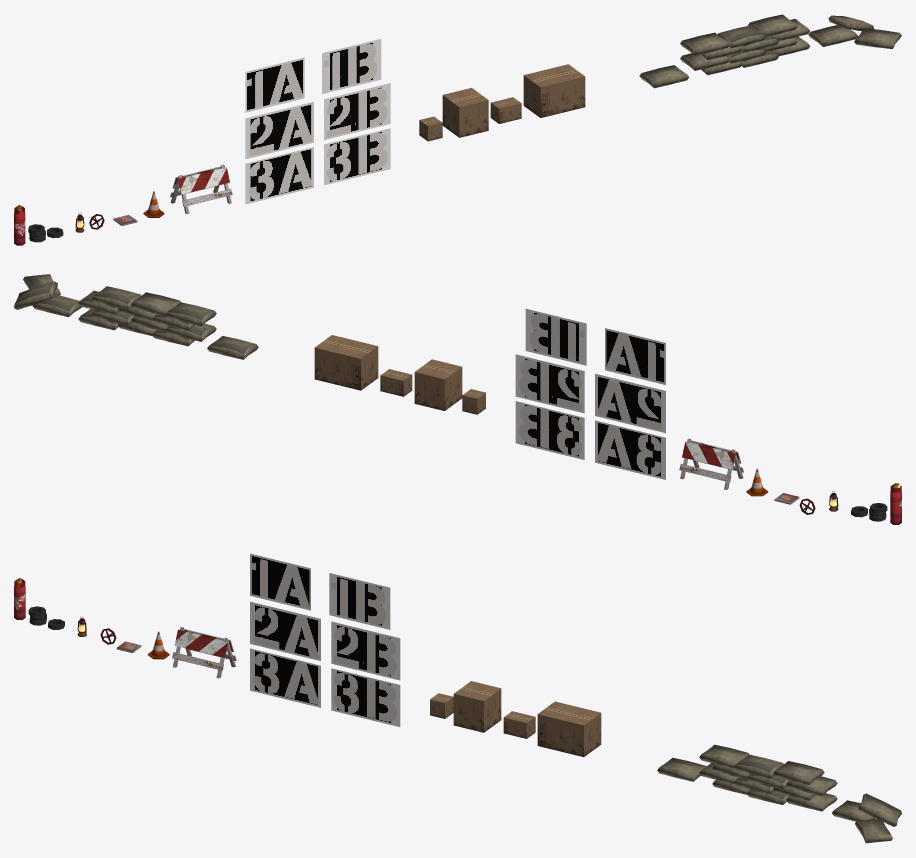
The model's file is MiscProps.fbx.
3 views of the same model, one above another, from view 1: azimuth 30°, elevation 25°; view 2: azimuth 150°, elevation 25°; view 3: azimuth 330°, elevation 25° (orthographic). The views are drawn at different scales.
Visible parts, largest first — view 1: Prop_Sandbag_Wall, Prop_LocationMarker_2A, Prop_LocationMarker_3A, Prop_LocationMarker_2B, Prop_LocationMarker_3B, Prop_CardboardBox_04, Prop_LocationMarker_1A, Prop_LocationMarker_1B, Prop_CardboardBox_02, Prop_Sandbag_Pile, Prop_Barricade, Prop_Sandbag_Single (+2 smaller); view 2: Prop_Sandbag_Wall, Prop_LocationMarker_2A, Prop_LocationMarker_3A, Prop_LocationMarker_2B, Prop_LocationMarker_3B, Prop_CardboardBox_04, Prop_LocationMarker_1B, Prop_LocationMarker_1A, Prop_CardboardBox_02, Prop_Barricade, Prop_Sandbag_Pile, Prop_Sandbag_Single (+2 smaller); view 3: Prop_Sandbag_Wall, Prop_LocationMarker_2A, Prop_LocationMarker_3A, Prop_LocationMarker_2B, Prop_LocationMarker_3B, Prop_CardboardBox_04, Prop_LocationMarker_1B, Prop_LocationMarker_1A, Prop_CardboardBox_02, Prop_Sandbag_Pile, Prop_Barricade, Prop_CardboardBox_03 (+1 smaller).
Boxes of the visible parts, box(x1,y1,x2,y2) form: Prop_Sandbag_Wall: box(680, 14, 810, 75); Prop_LocationMarker_2A: box(245, 102, 313, 159); Prop_LocationMarker_3A: box(245, 147, 313, 204); Prop_LocationMarker_2B: box(324, 83, 390, 139); Prop_LocationMarker_3B: box(324, 128, 390, 185); Prop_CardboardBox_04: box(523, 64, 585, 117); Prop_LocationMarker_1A: box(245, 57, 304, 112); Prop_LocationMarker_1B: box(322, 39, 381, 93); Prop_CardboardBox_02: box(442, 88, 488, 137); Prop_Sandbag_Pile: box(808, 15, 901, 48); Prop_Barricade: box(170, 164, 232, 213); Prop_Sandbag_Single: box(639, 65, 689, 88); Prop_Sandbag_Wall: box(78, 286, 216, 346); Prop_LocationMarker_2A: box(595, 373, 665, 433); Prop_LocationMarker_3A: box(595, 420, 665, 479); Prop_LocationMarker_2B: box(515, 354, 584, 413); Prop_LocationMarker_3B: box(515, 401, 584, 459); Prop_CardboardBox_04: box(314, 335, 378, 390); Prop_LocationMarker_1B: box(525, 309, 586, 365); Prop_LocationMarker_1A: box(605, 328, 665, 384); Prop_CardboardBox_02: box(414, 359, 462, 410); Prop_Barricade: box(679, 438, 743, 489); Prop_Sandbag_Pile: box(14, 274, 81, 317); Prop_Sandbag_Single: box(207, 336, 258, 359); Prop_Sandbag_Wall: box(699, 744, 837, 811); Prop_LocationMarker_2A: box(250, 601, 320, 660); Prop_LocationMarker_3A: box(250, 648, 320, 707); Prop_LocationMarker_2B: box(331, 621, 400, 680); Prop_LocationMarker_3B: box(331, 668, 400, 726); Prop_CardboardBox_04: box(537, 701, 601, 756); Prop_LocationMarker_1B: box(329, 573, 390, 629); Prop_LocationMarker_1A: box(250, 553, 310, 610); Prop_CardboardBox_02: box(453, 681, 501, 732); Prop_Sandbag_Pile: box(832, 793, 901, 843); Prop_Barricade: box(172, 627, 236, 678); Prop_CardboardBox_03: box(503, 711, 535, 738).
Size of the model in its own units: 2964 by 433 by 227.
